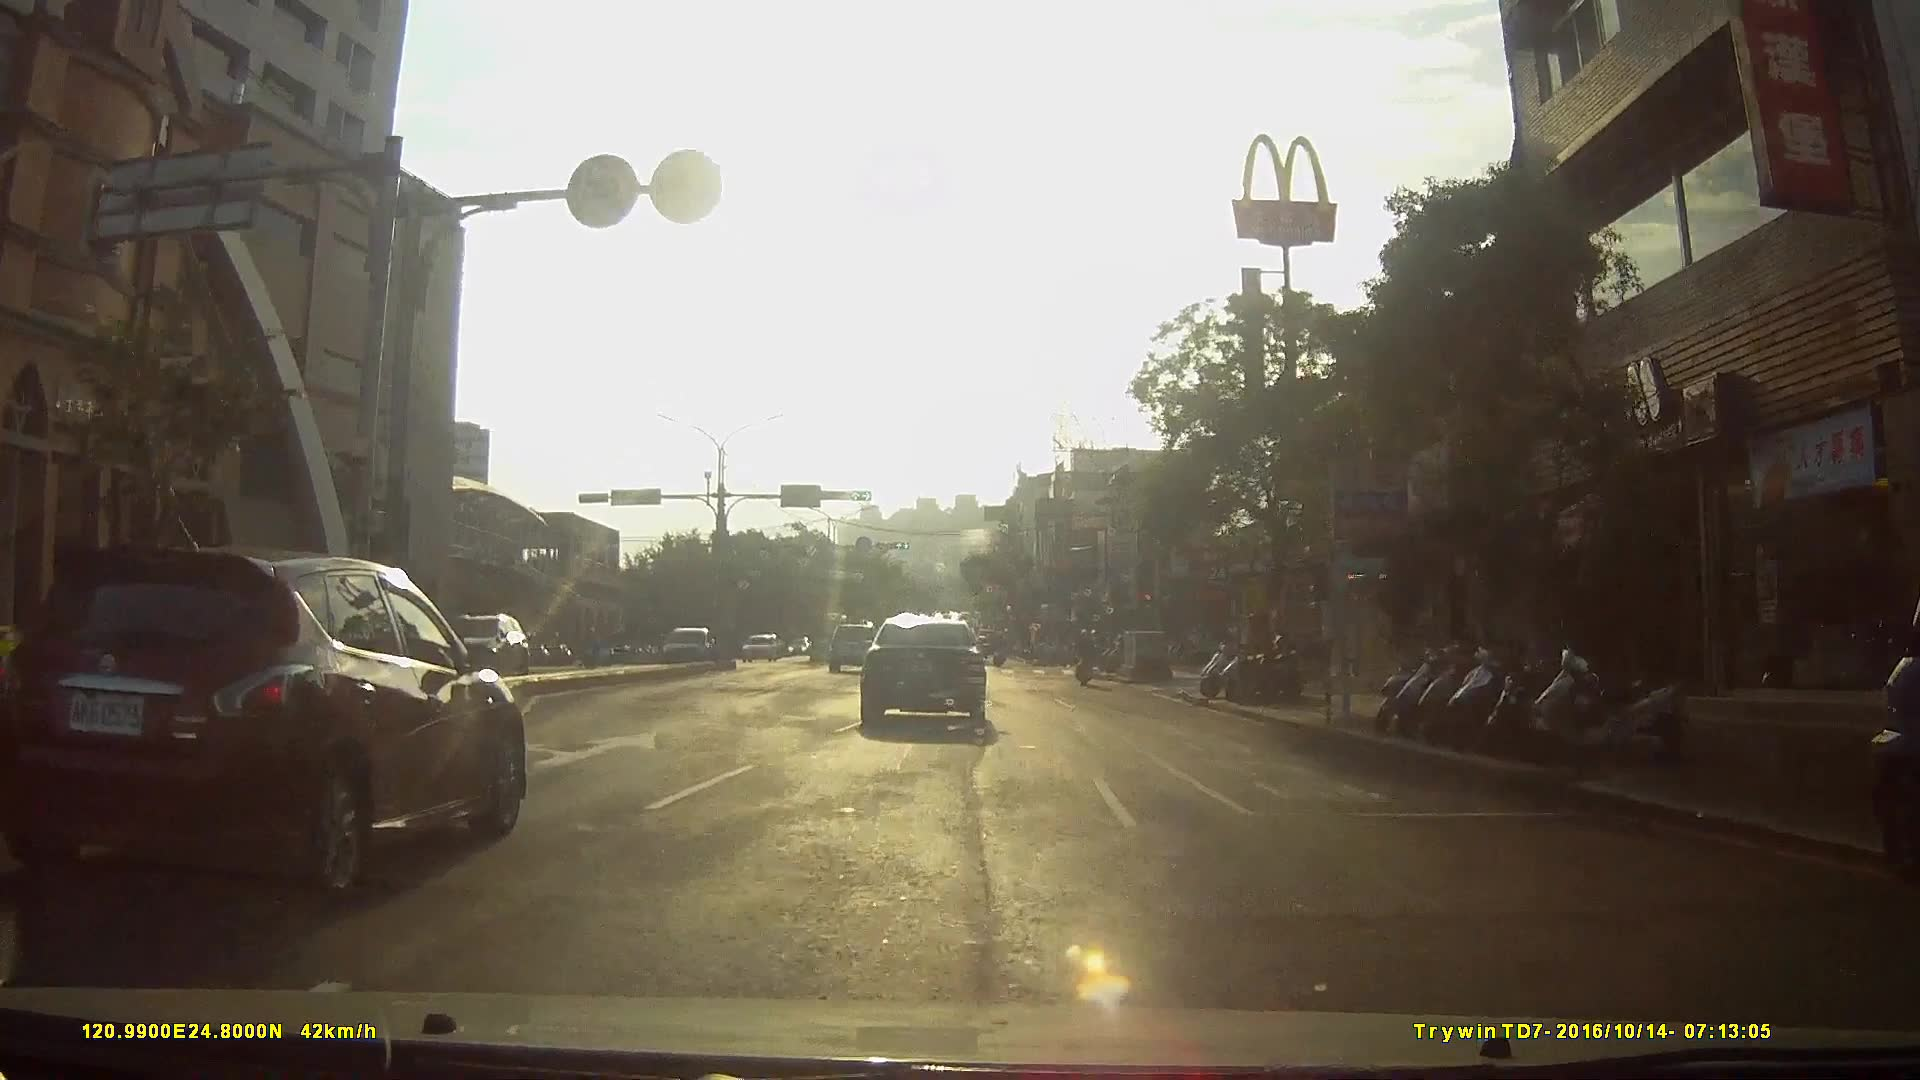rider: (1071, 627, 1096, 691)
vehicle: (4, 539, 539, 910), (851, 611, 995, 735), (423, 608, 534, 682), (653, 624, 718, 672), (822, 622, 879, 677), (739, 634, 779, 665)
